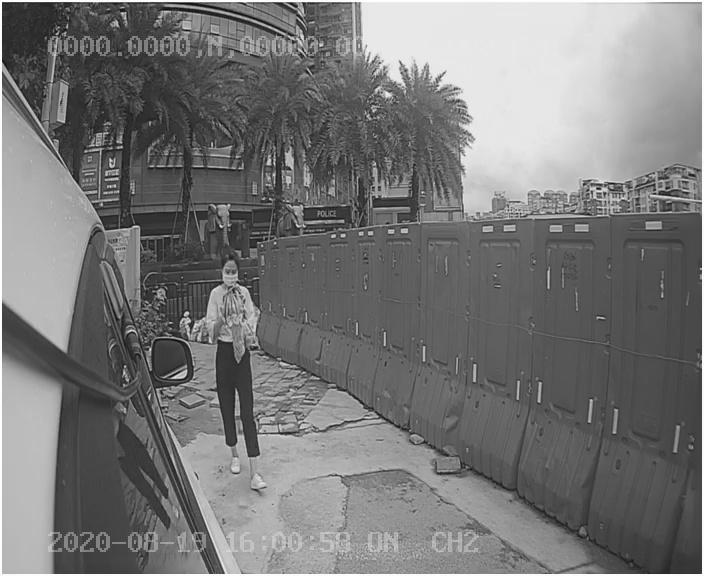person: (197, 250, 283, 498)
